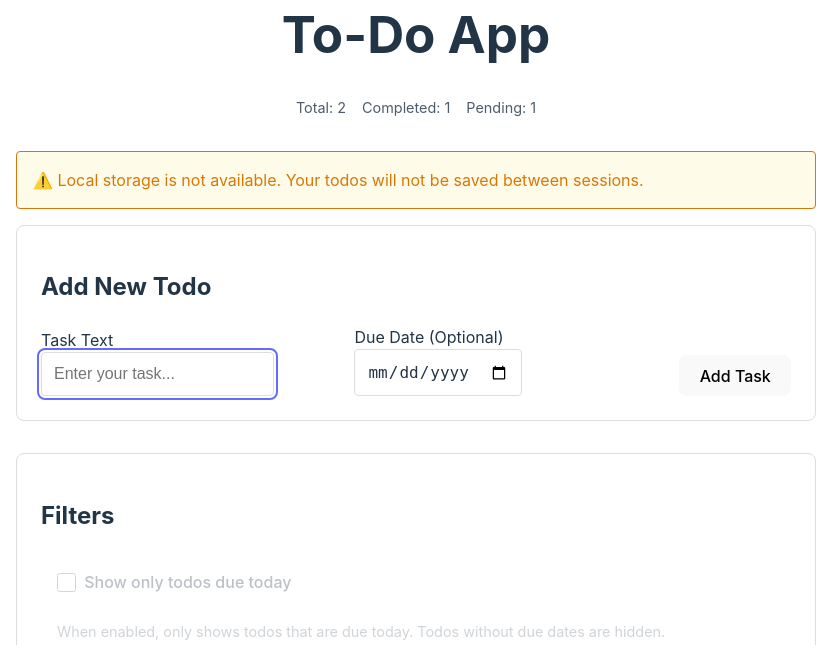
Test case: TodoApp › shows validation errors from AddTodoForm
Note: Find the submit button and click without entering text
Click the button "Add Task". click: (735, 376)
box: [679,355,791,396]
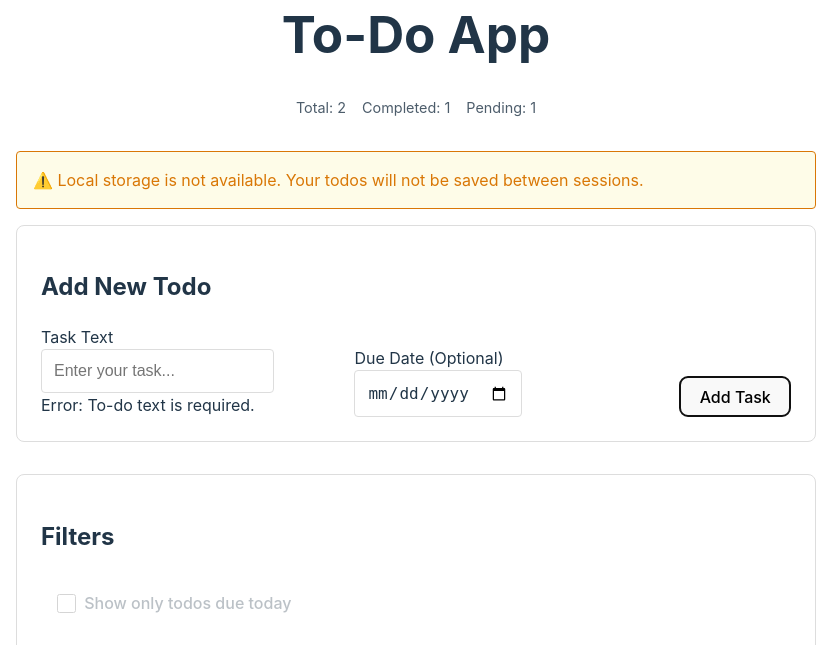
Expected: the text "Error: To-do text is required." is shown, [41,395,255,415]
